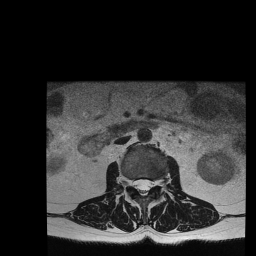CCS_normal: (140, 173, 146, 200)
LFS_normal: (153, 173, 160, 191)
LLS_normal: (146, 175, 153, 196)
RFS_normal: (127, 173, 133, 191)
RLS_normal: (133, 174, 140, 195)
